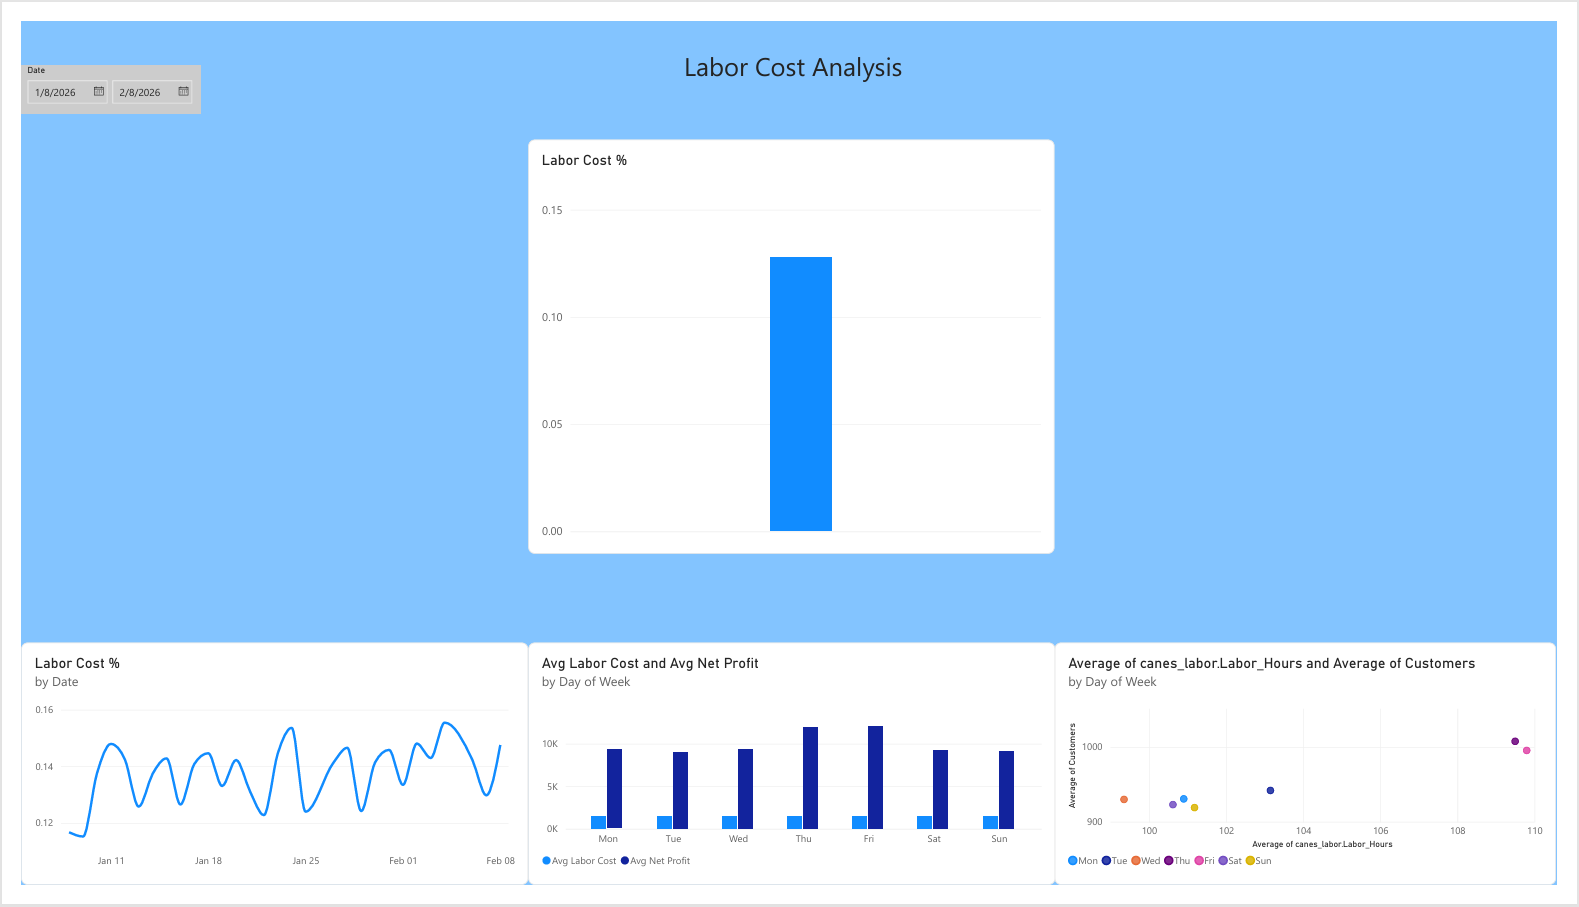

Layout of this report page (visuals, bound fields, positions):
{"tool":"powerbi","page":{"name":"Labor Cost","canvas":[1920,1080],"ordinal":1},"visuals":[{"type":"textbox","box":[10.5,32.9,1909.8,133],"z":0},{"type":"clusteredColumnChart","fields":{"Y":["canes_sales.Labor Cost %"]},"box":[633.5,147.5,658.5,518.9],"z":1000},{"type":"lineChart","fields":{"Category":["Date.Date"],"Y":["canes_sales.Labor Cost %"]},"box":[0,777.1,633.5,302.9],"z":2000},{"type":"scatterChart","fields":{"Series":["Date.Day of Week"],"X":["Avg(canes_sales.canes_labor.Labor_Hours)"],"Y":["Avg(canes_sales.Customers)"]},"box":[1292,777.1,626.9,302.9],"z":3000},{"type":"clusteredColumnChart","fields":{"Category":["Date.Day of Week"],"Y":["canes_sales.Avg Labor Cost","canes_sales.Avg Net Profit"]},"box":[634,777,659,303],"z":4000},{"type":"slicer","fields":{"Values":["Date.Date"]},"box":[0,55.3,223.9,60.6],"z":5000}]}

Visuals, with their boxes in screenshot pixels (x1, y1, x2, y2), scaled from the page's 1920x1080 canvas onto the 1579x907 screenshot:
textbox: (x1=9, y1=28, x2=1578, y2=139)
clusteredColumnChart - canes_sales.Labor Cost %: (x1=521, y1=124, x2=1063, y2=560)
lineChart - Date.Date x canes_sales.Labor Cost %: (x1=0, y1=653, x2=521, y2=906)
scatterChart - Date.Day of Week x Avg(canes_sales.canes_labor.Labor_Hours): (x1=1063, y1=653, x2=1578, y2=906)
clusteredColumnChart - Date.Day of Week x canes_sales.Avg Labor Cost: (x1=521, y1=653, x2=1063, y2=906)
slicer - Date.Date: (x1=0, y1=46, x2=184, y2=97)
